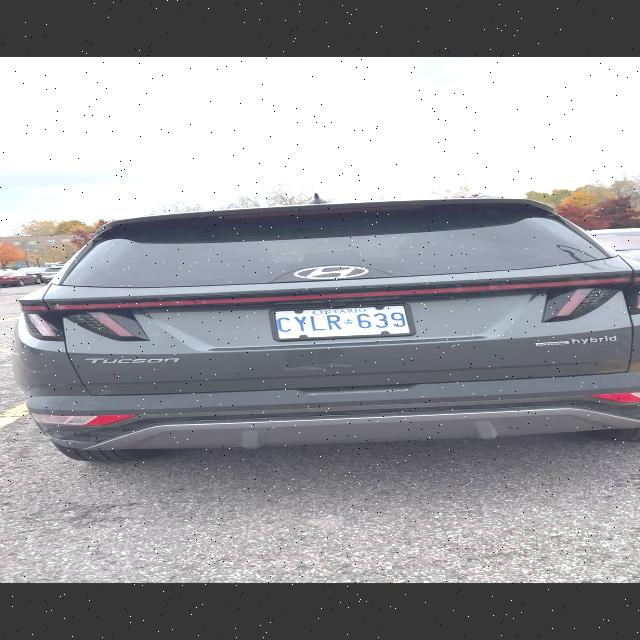plaque: (272, 305, 413, 340)
